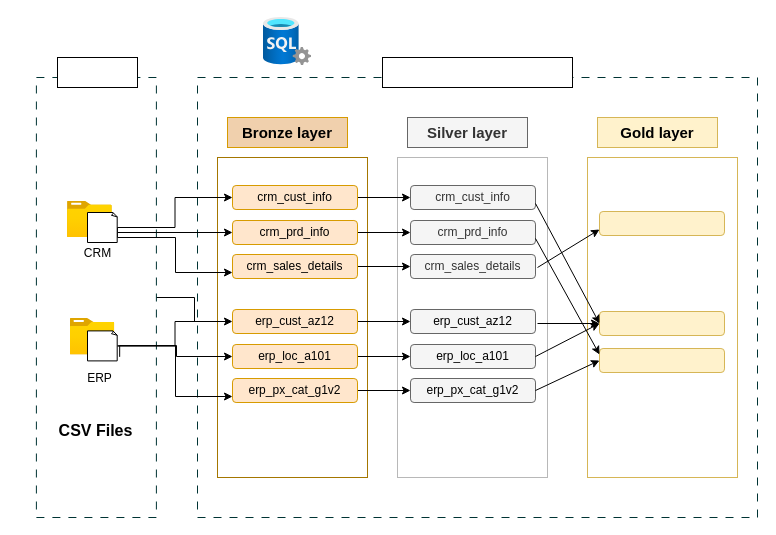
The diagram is 776 pixels wide and 535 high, and some of its shapes have lost their labels. The box of each missing label's shape, as (x1, y1, x2, y2) in pixels:
Customers_Dim: (598, 310, 724, 336)
Data Warehouse: (382, 56, 572, 88)
Fact_Sales: (598, 210, 724, 236)
Products_Dim: (598, 348, 724, 372)
sources: (56, 56, 138, 88)
